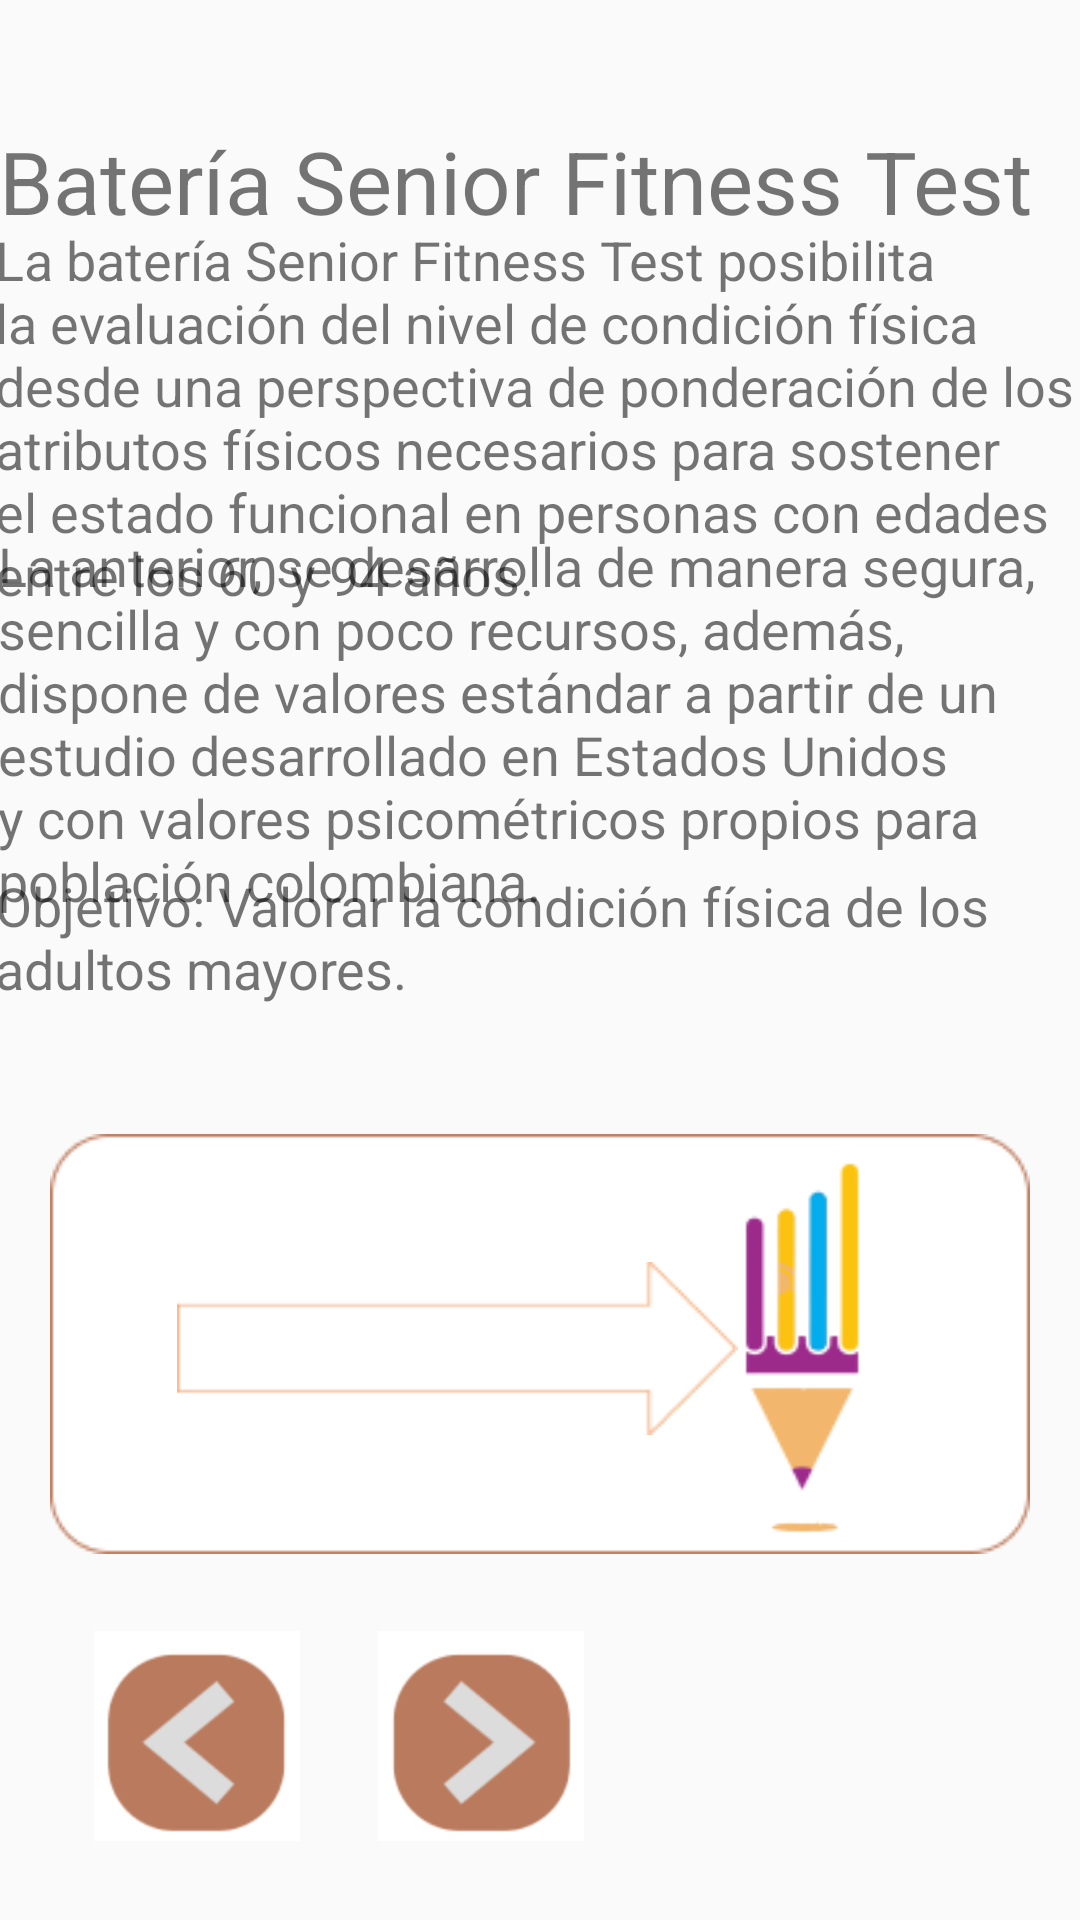

Where to tap for icons on this 1080*1920 app screen, as [x,y]:
regresar: [196,1743]
seguir: [482,1743]
